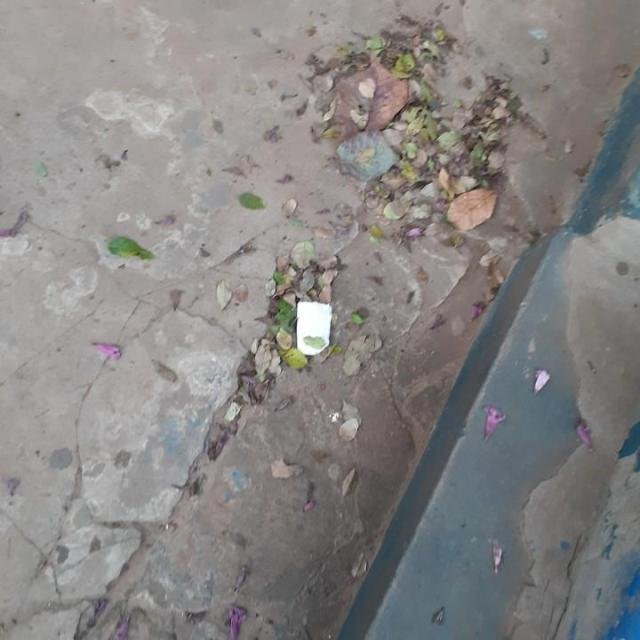litter: (298, 300, 337, 359)
